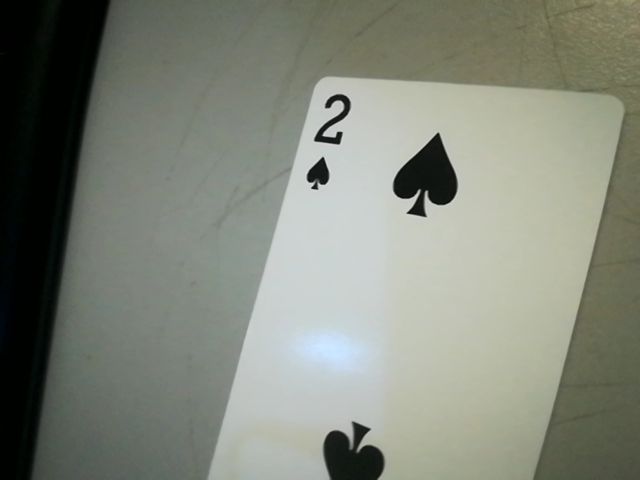ht 2: (297, 84, 360, 199)
